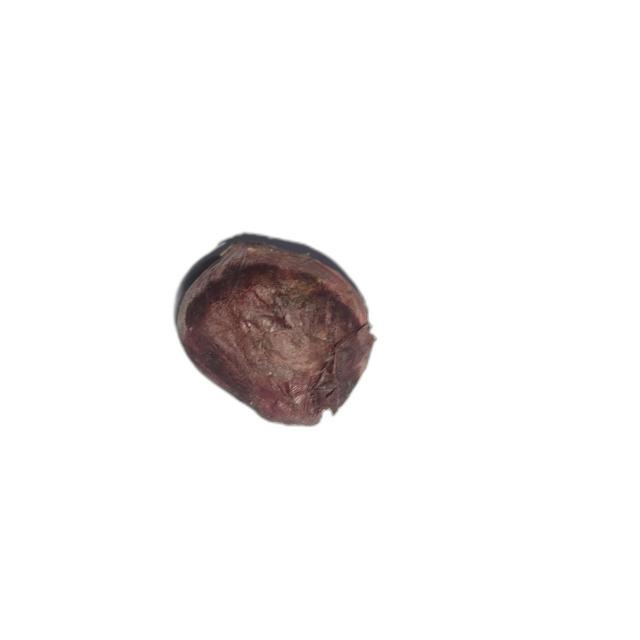onion: (174, 244, 374, 426)
